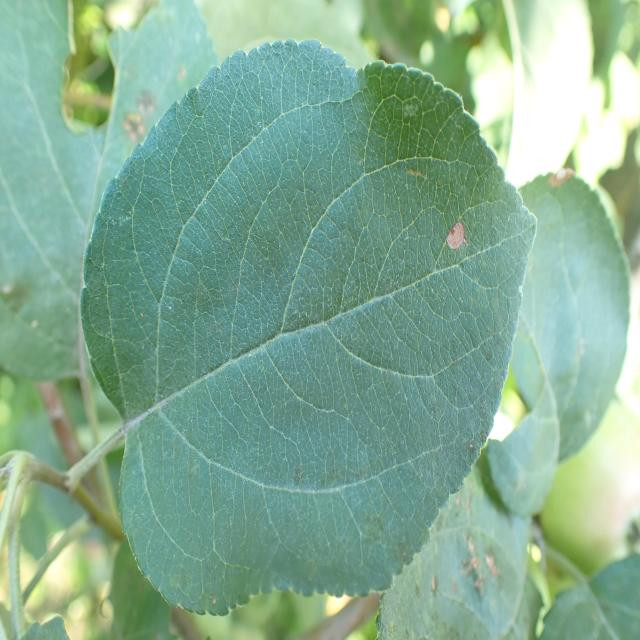Black Rot: (46, 0, 125, 140), (469, 357, 538, 459), (434, 213, 482, 260), (540, 146, 580, 201)
